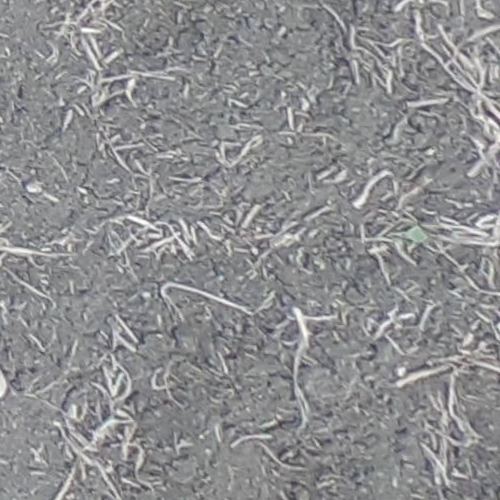isolated: (409, 225, 428, 243)
